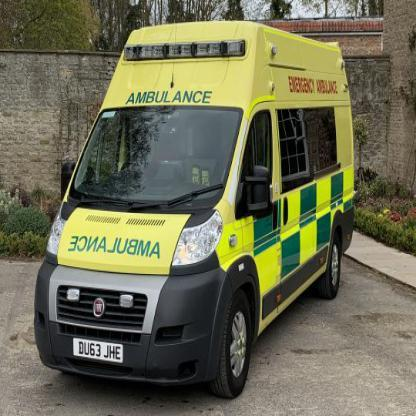Ambulance - v1 Ambulance last generate: (37, 25, 354, 391)
